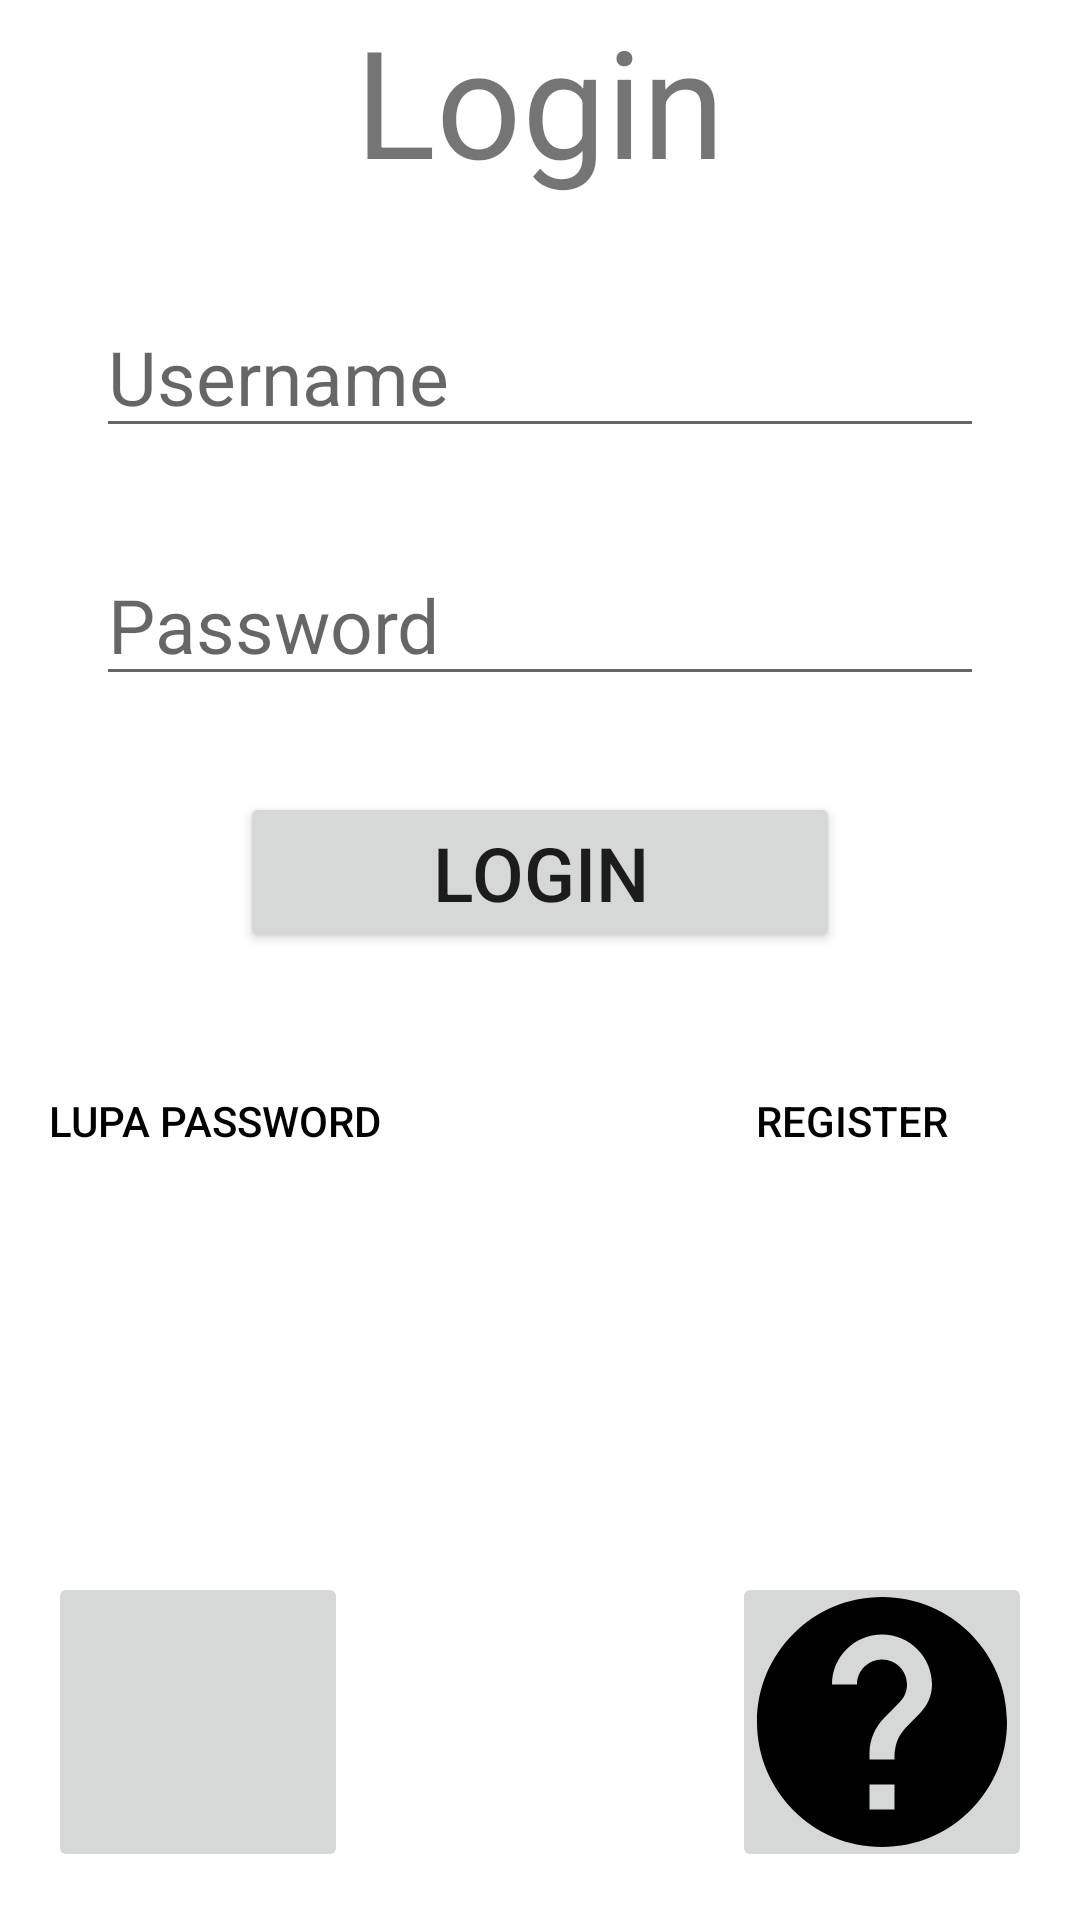

Named icons in this screenshot (1080x1920) and their centers, [x,y]:
help: [882,1722]
